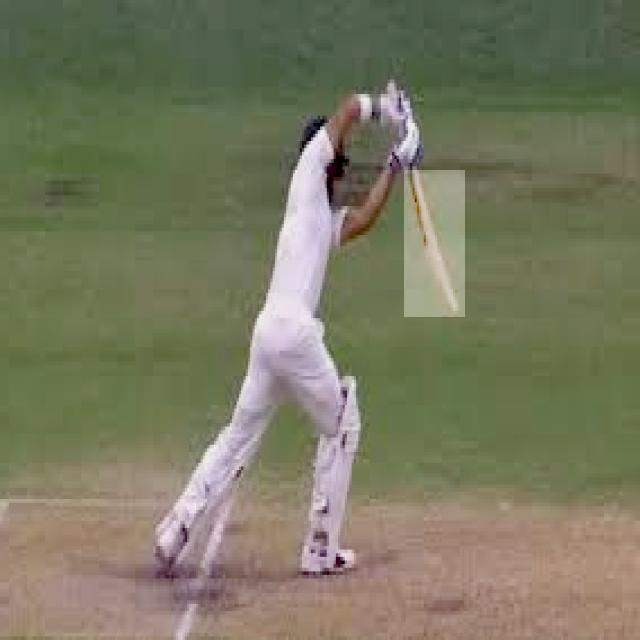bat: (405, 170, 465, 316)
toe: (440, 294, 472, 324)
